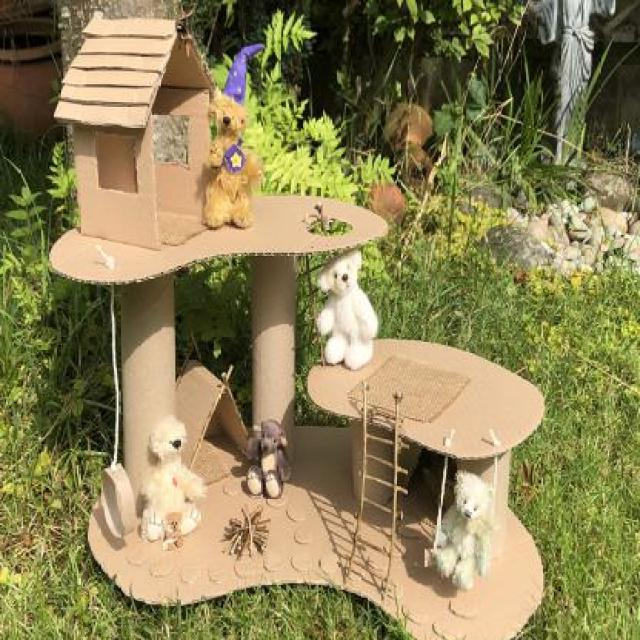box: (51, 11, 574, 640)
